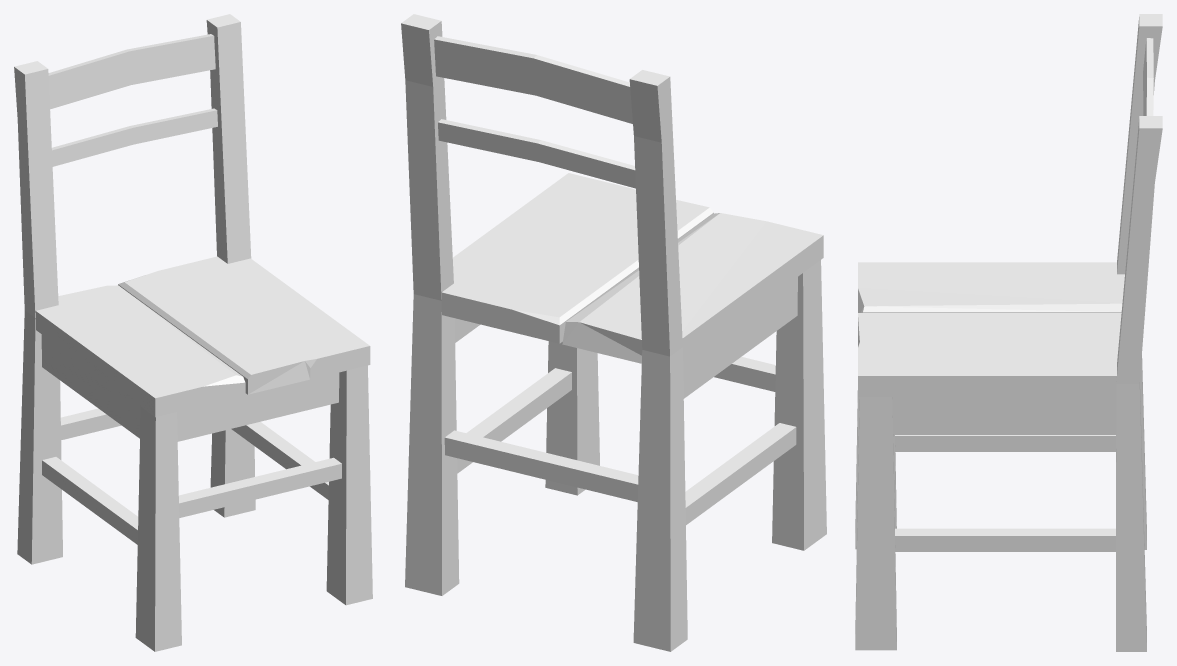
File: Prop_Wooden_Chair_01.glb
3 renders of one model, left to right at view 1: azimuth 30°, elevation 25°; view 2: azimuth 150°, elevation 25°; view 3: azimuth 270°, elevation 25°, orthographic. The views are drawn at different scales.
Visible parts, largest first — view 1: Prop_Wooden_Chair_01; view 2: Prop_Wooden_Chair_01; view 3: Prop_Wooden_Chair_01.
Part boxes in pixels (left/top/right/bottom): Prop_Wooden_Chair_01: left=14, top=14, right=372, bottom=651; Prop_Wooden_Chair_01: left=401, top=14, right=826, bottom=651; Prop_Wooden_Chair_01: left=855, top=14, right=1162, bottom=651.
Bounding box in the file's own units: 0.5079 × 1.04 × 0.5574.
Materials: 1 (1 with a texture image).
